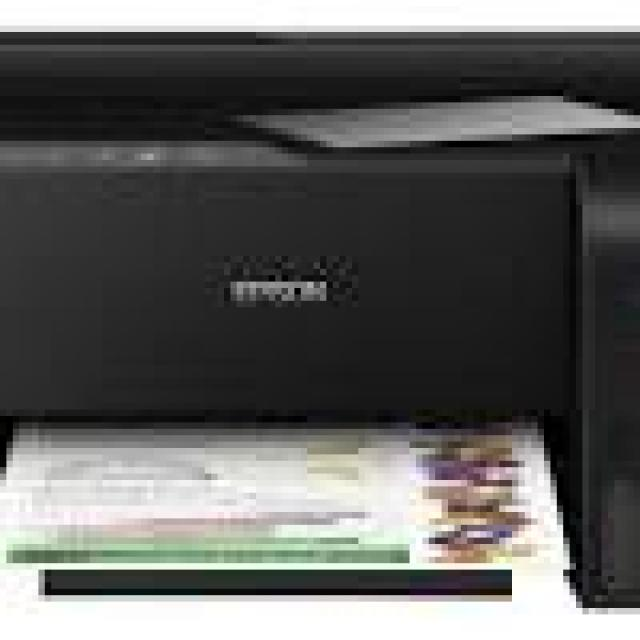printer: (5, 23, 640, 619)
